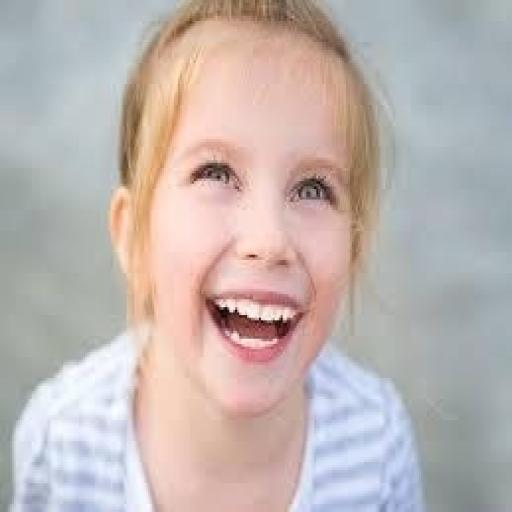laughing: (2, 0, 443, 509)
